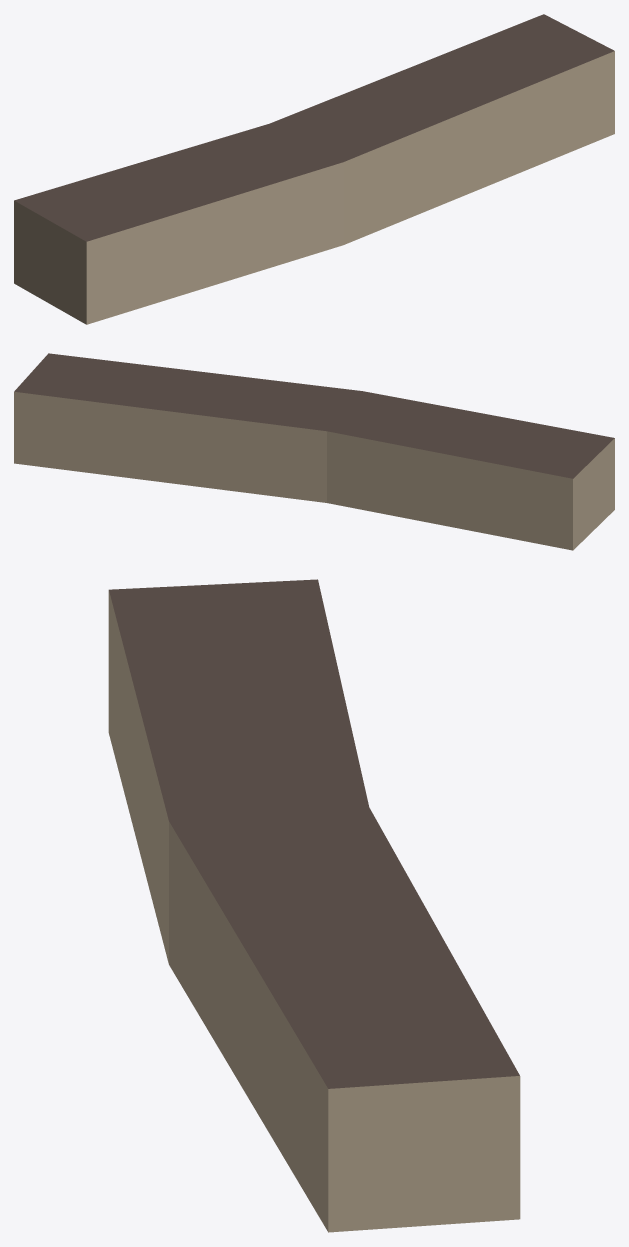
3 renders of one model, top to bottom at view 1: azimuth 30°, elevation 25°; view 2: azimuth 150°, elevation 25°; view 3: azimuth 270°, elevation 25°, orthographic. The views are drawn at different scales.
Parts seen in each view (by area): view 1: HP-w1122519253; view 2: HP-w1122519253; view 3: HP-w1122519253.
Boxes of the visible parts, x1,y1,x2,y2 form: HP-w1122519253: (14,14,614,324); HP-w1122519253: (14,353,614,550); HP-w1122519253: (108,579,520,1232).
Size of the model in its own units: 68.5 by 9 by 23.37.
